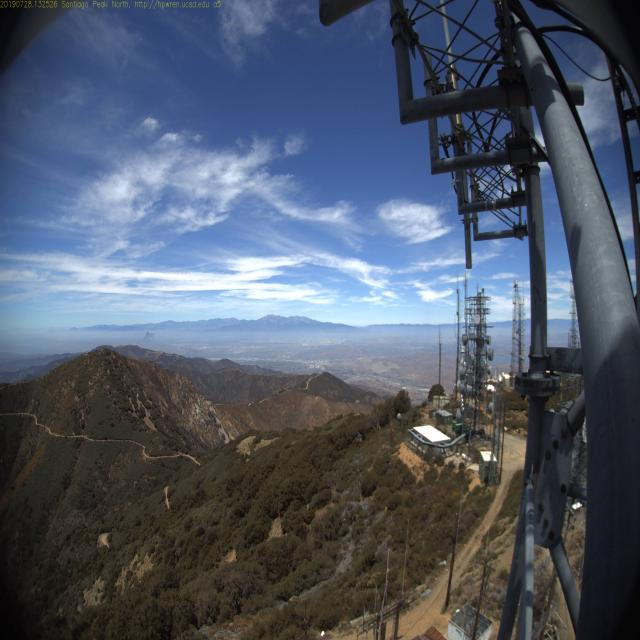smoke: (138, 326, 156, 344)
